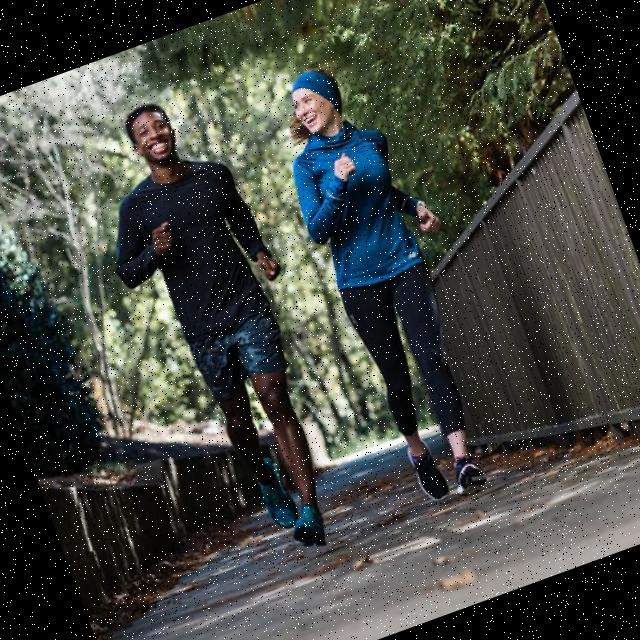Person: (68, 78, 376, 580), (260, 47, 530, 510)
